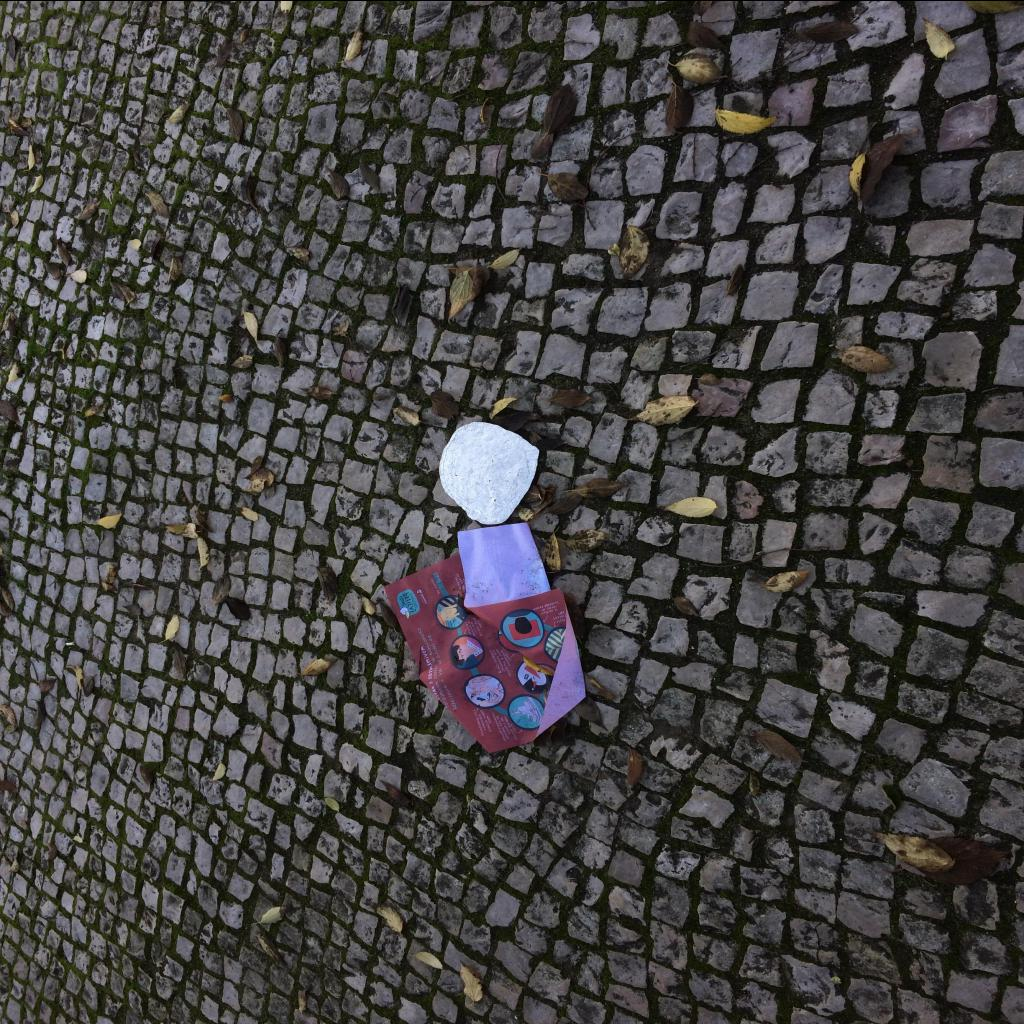Aluminium foil: (439, 422, 539, 524)
